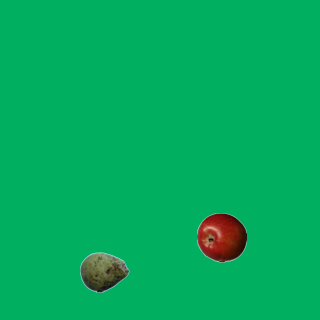Apple Braeburn: (196, 212, 246, 262)
Pear Stone: (79, 247, 129, 297)
